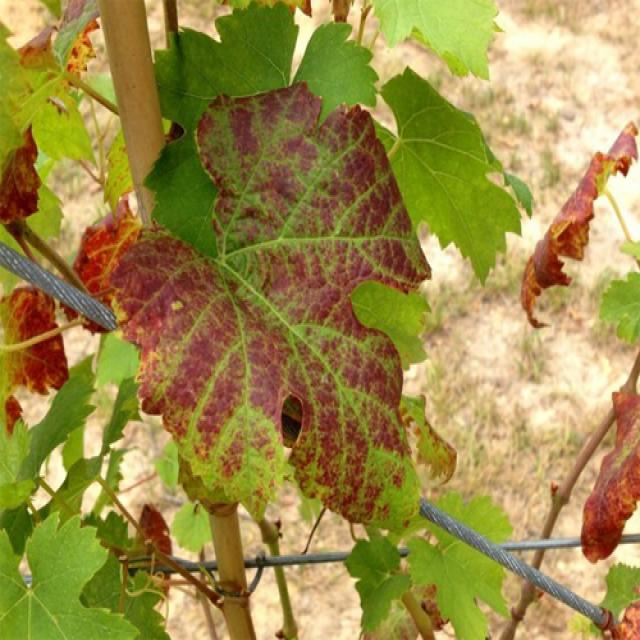green waste: (19, 22, 623, 609)
